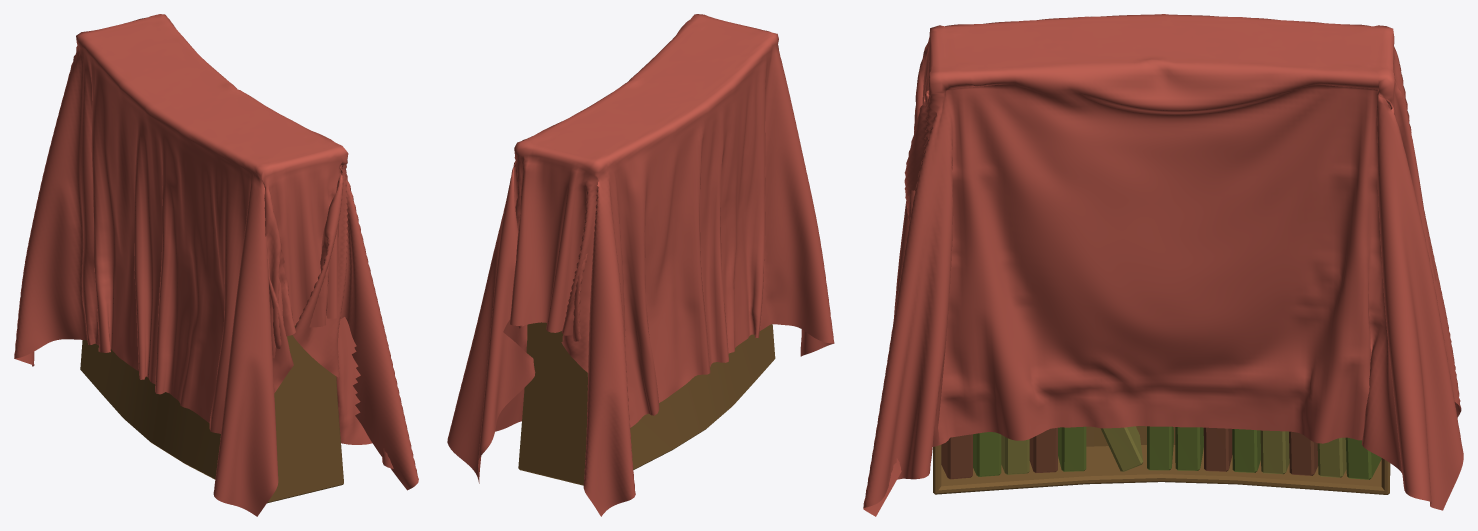
Rendered from bibli gh.fbx.
3 views of the same model, side by side, from view 1: azimuth 30°, elevation 25°; view 2: azimuth 150°, elevation 25°; view 3: azimuth 270°, elevation 25° (orthographic). The views are drawn at different scales.
Visible parts, largest first — view 1: Grid, brique tour.002; view 2: Grid, brique tour.002; view 3: Grid, brique tour.002.
Part boxes in pixels (x1,y1,x2,y2): Grid: (14,14,418,516); brique tour.002: (80,325,343,503); Grid: (447,14,834,516); brique tour.002: (518,322,775,485); Grid: (863,14,1463,516); brique tour.002: (933,426,1390,494).
Size of the model in its own units: 282 by 471 by 599.
